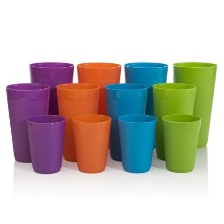glass: (168, 55, 219, 152), (122, 54, 168, 152), (102, 78, 152, 165), (3, 79, 53, 163), (54, 78, 103, 163), (147, 79, 199, 159), (64, 106, 113, 176), (26, 55, 74, 120), (157, 111, 202, 177), (70, 58, 125, 112), (115, 110, 158, 177), (23, 111, 67, 176)
